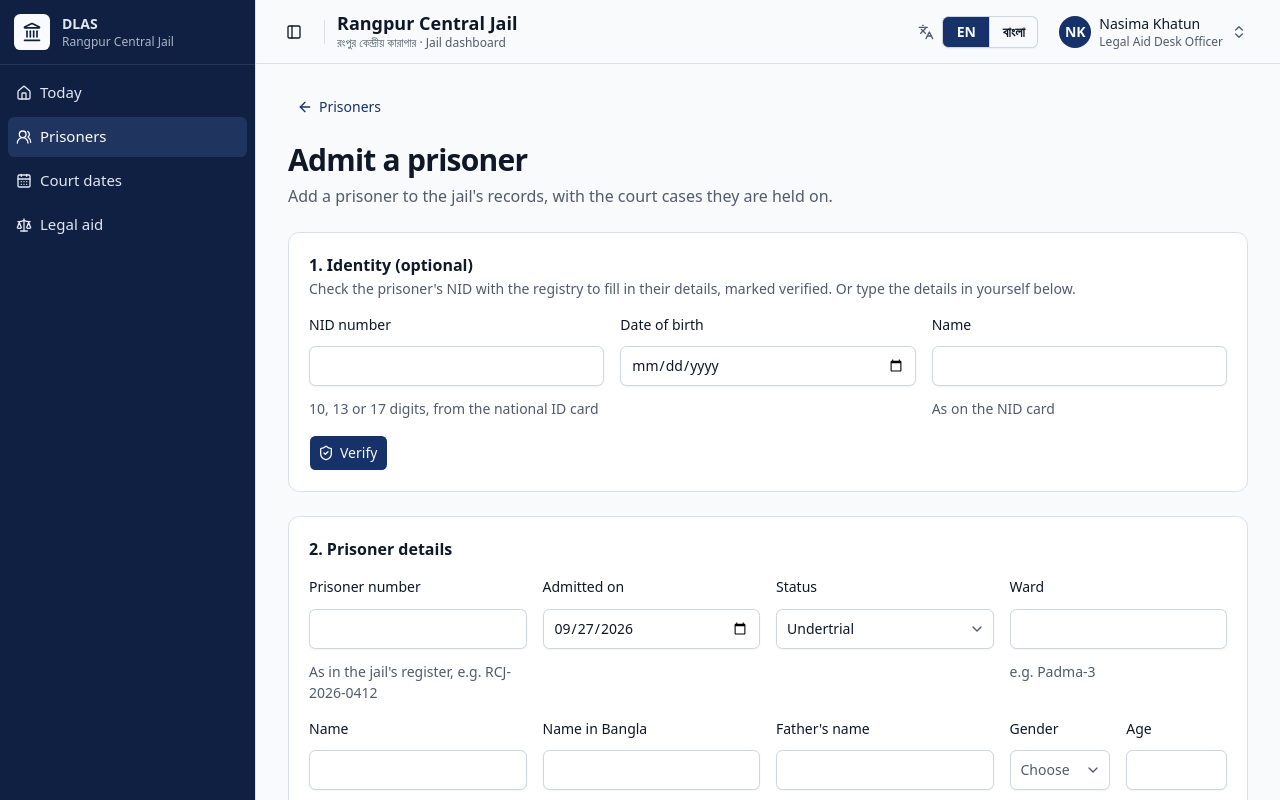
Test: admitting a prisoner › fills the details from the NID registry and marks them verified
This screenshot has width=1280, height=800.
In the field labelled "NID number": (457, 366) [309,346,604,386], type "5068247712"
In the date field labelled "Date of birth": (768, 366) [620,346,916,386], type "1990-03-12"
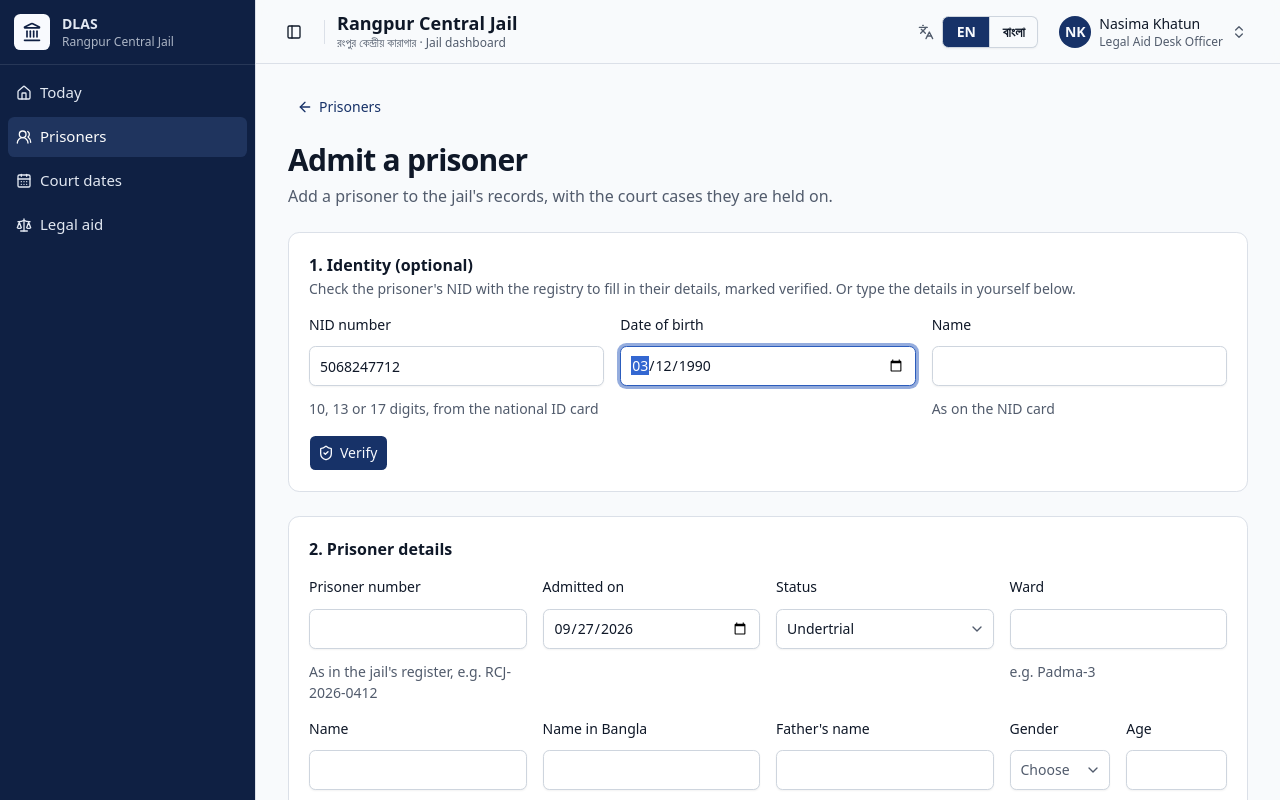
Click the button "Verify": (349, 453) [309,435,388,471]
(page scrolled)
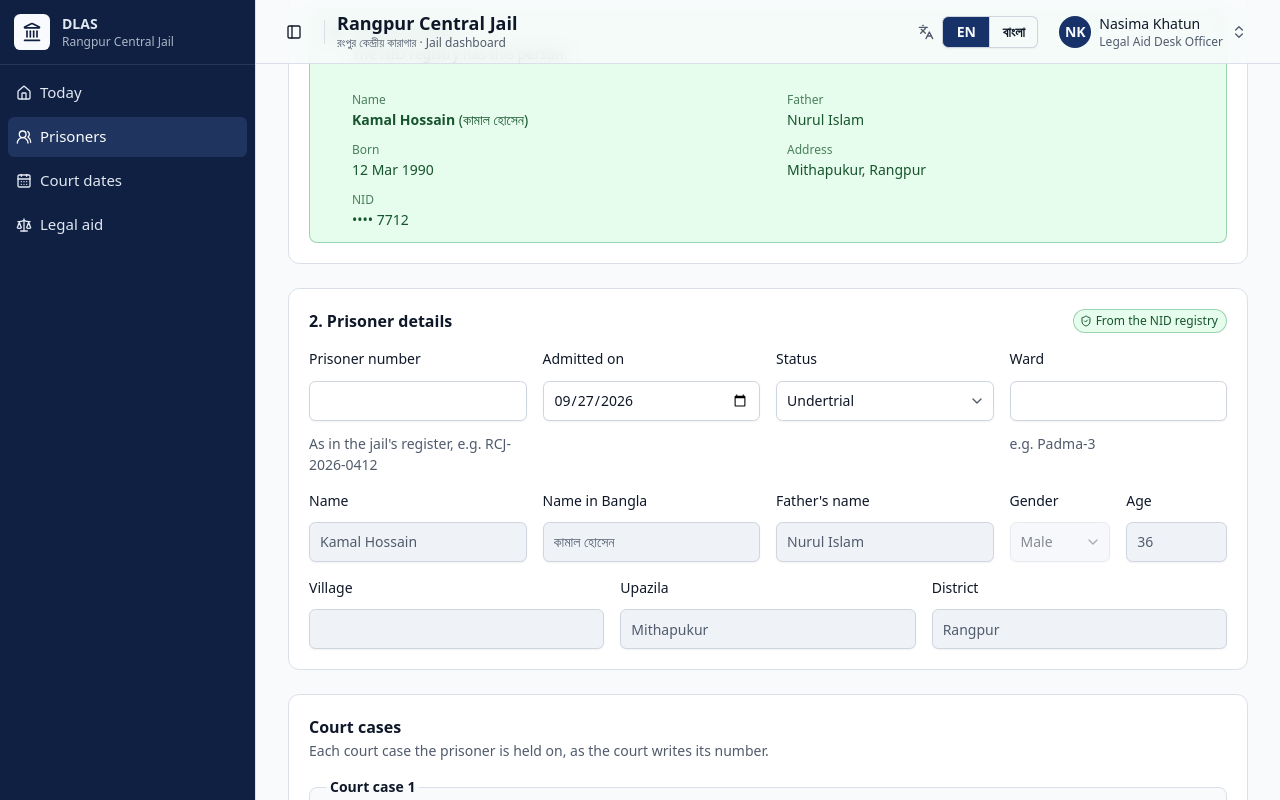
Now the field labelled "Name" holds "Kamal Hossain", box [309,522,526,562]
Now the field labelled "Father's name" holds "Nurul Islam", box [776,522,994,562]
Now the text "From the NID registry" is shown, box [1073,309,1227,333]
In the field labelled "Prisoner number": (418, 400) [309,380,526,420], type "RCJ-2026-0502"
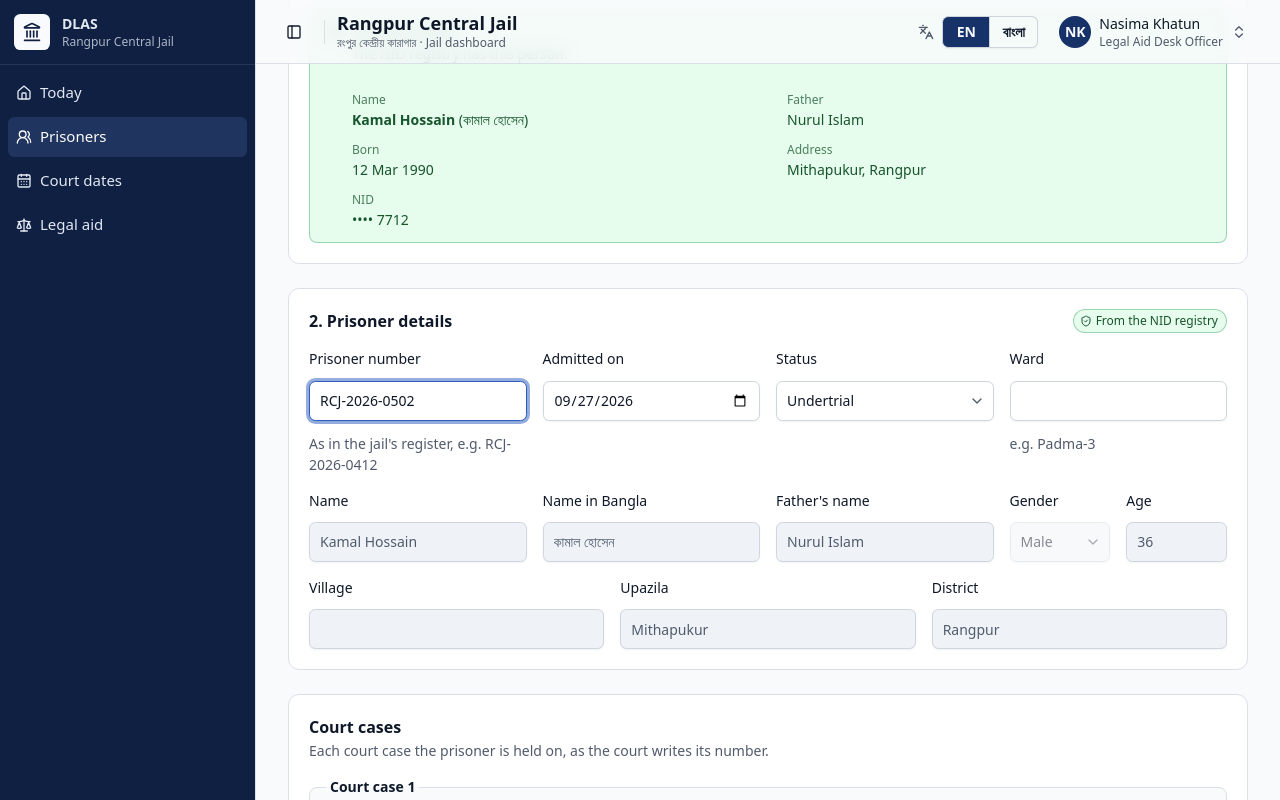
Click the dropdown named "Status": (885, 400) [776,380,994,420]
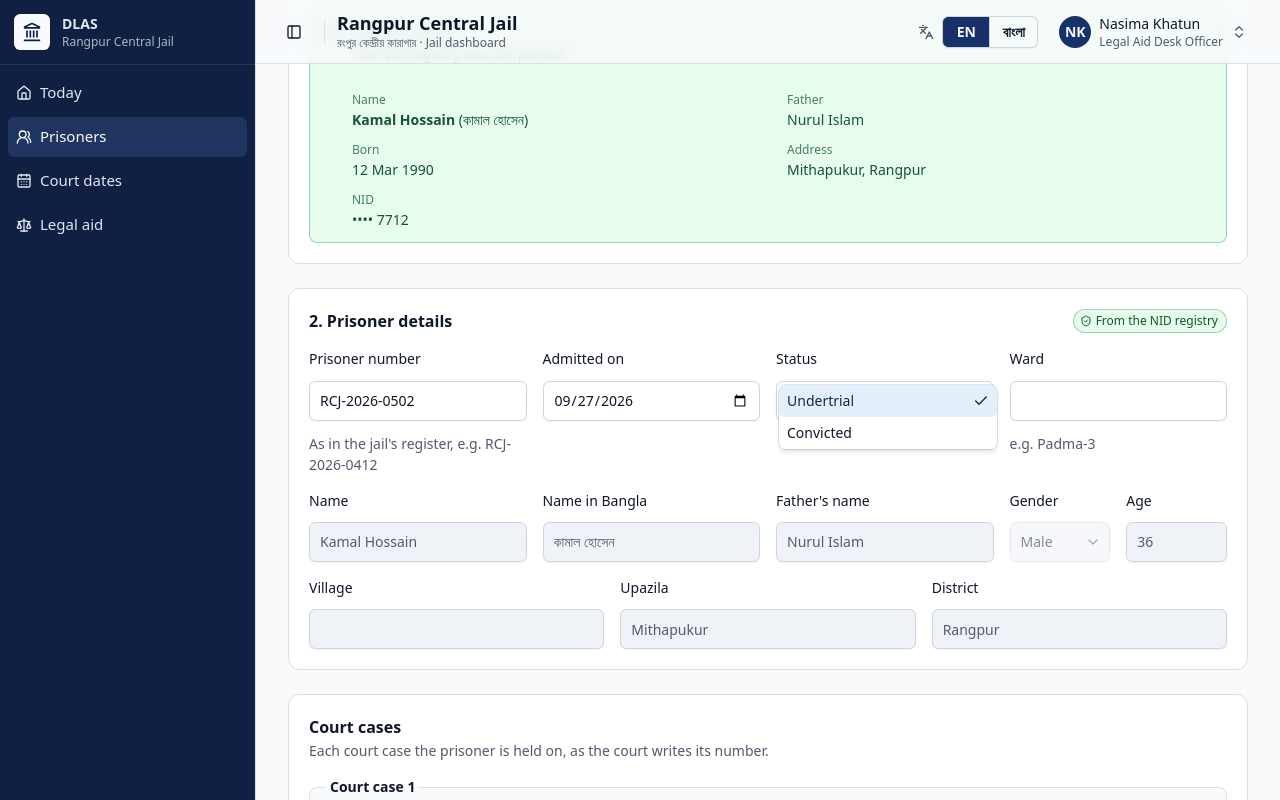
Click the option "Convicted": (820, 432) [787,422,852,442]
(page scrolled)
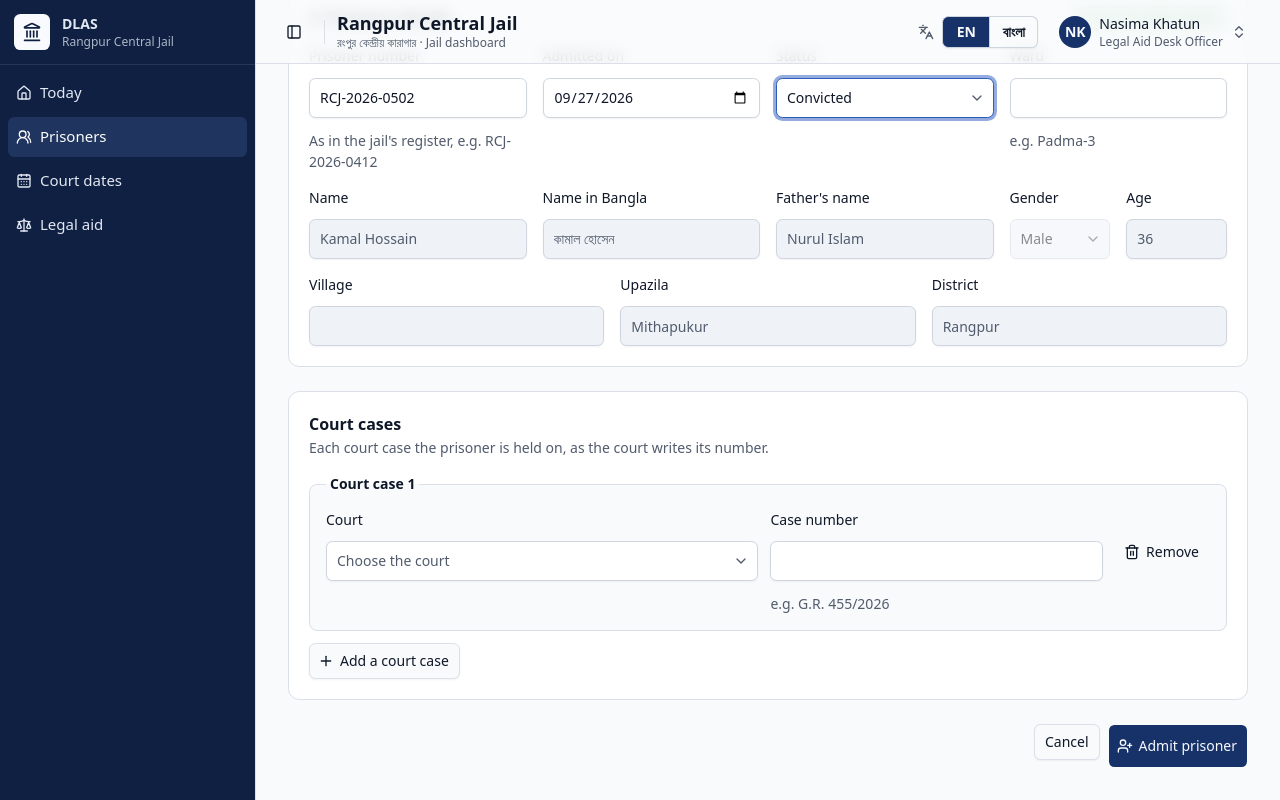
Click the button "Admit prisoner": (1178, 746) [1108,724,1248,768]
(page scrolled)
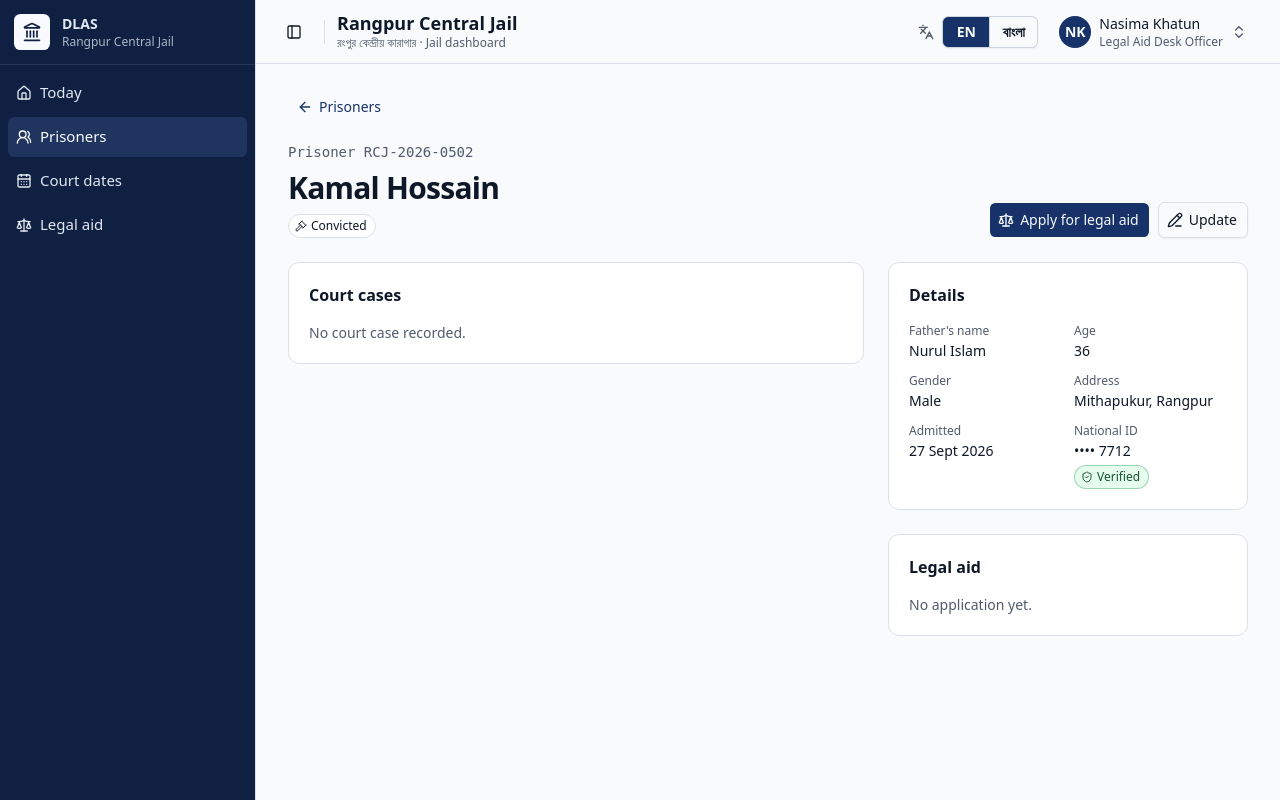
Expected: the text "Verified" is shown, [1074,465,1149,489]
Now the text "•••• 7712" is shown, box [1074,441,1131,461]
Now the heading "Kamal Hossain" is shown, box [288,170,499,206]
